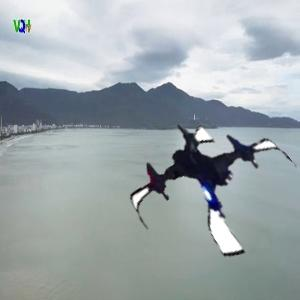drone: (131, 105, 300, 274)
